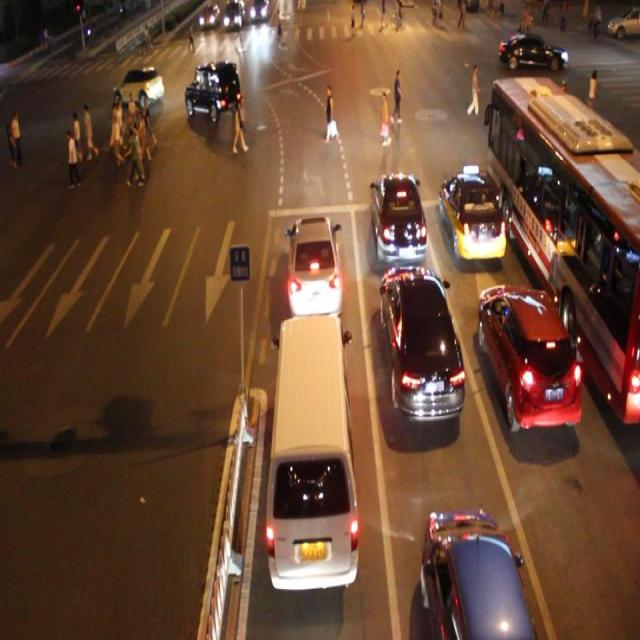car: (421, 505, 535, 640), (477, 282, 579, 428), (379, 263, 465, 417), (439, 168, 505, 260), (369, 168, 428, 262), (286, 213, 341, 313), (184, 61, 240, 122), (115, 66, 164, 105)
truck: (264, 316, 357, 586)
van: (487, 74, 640, 420)
